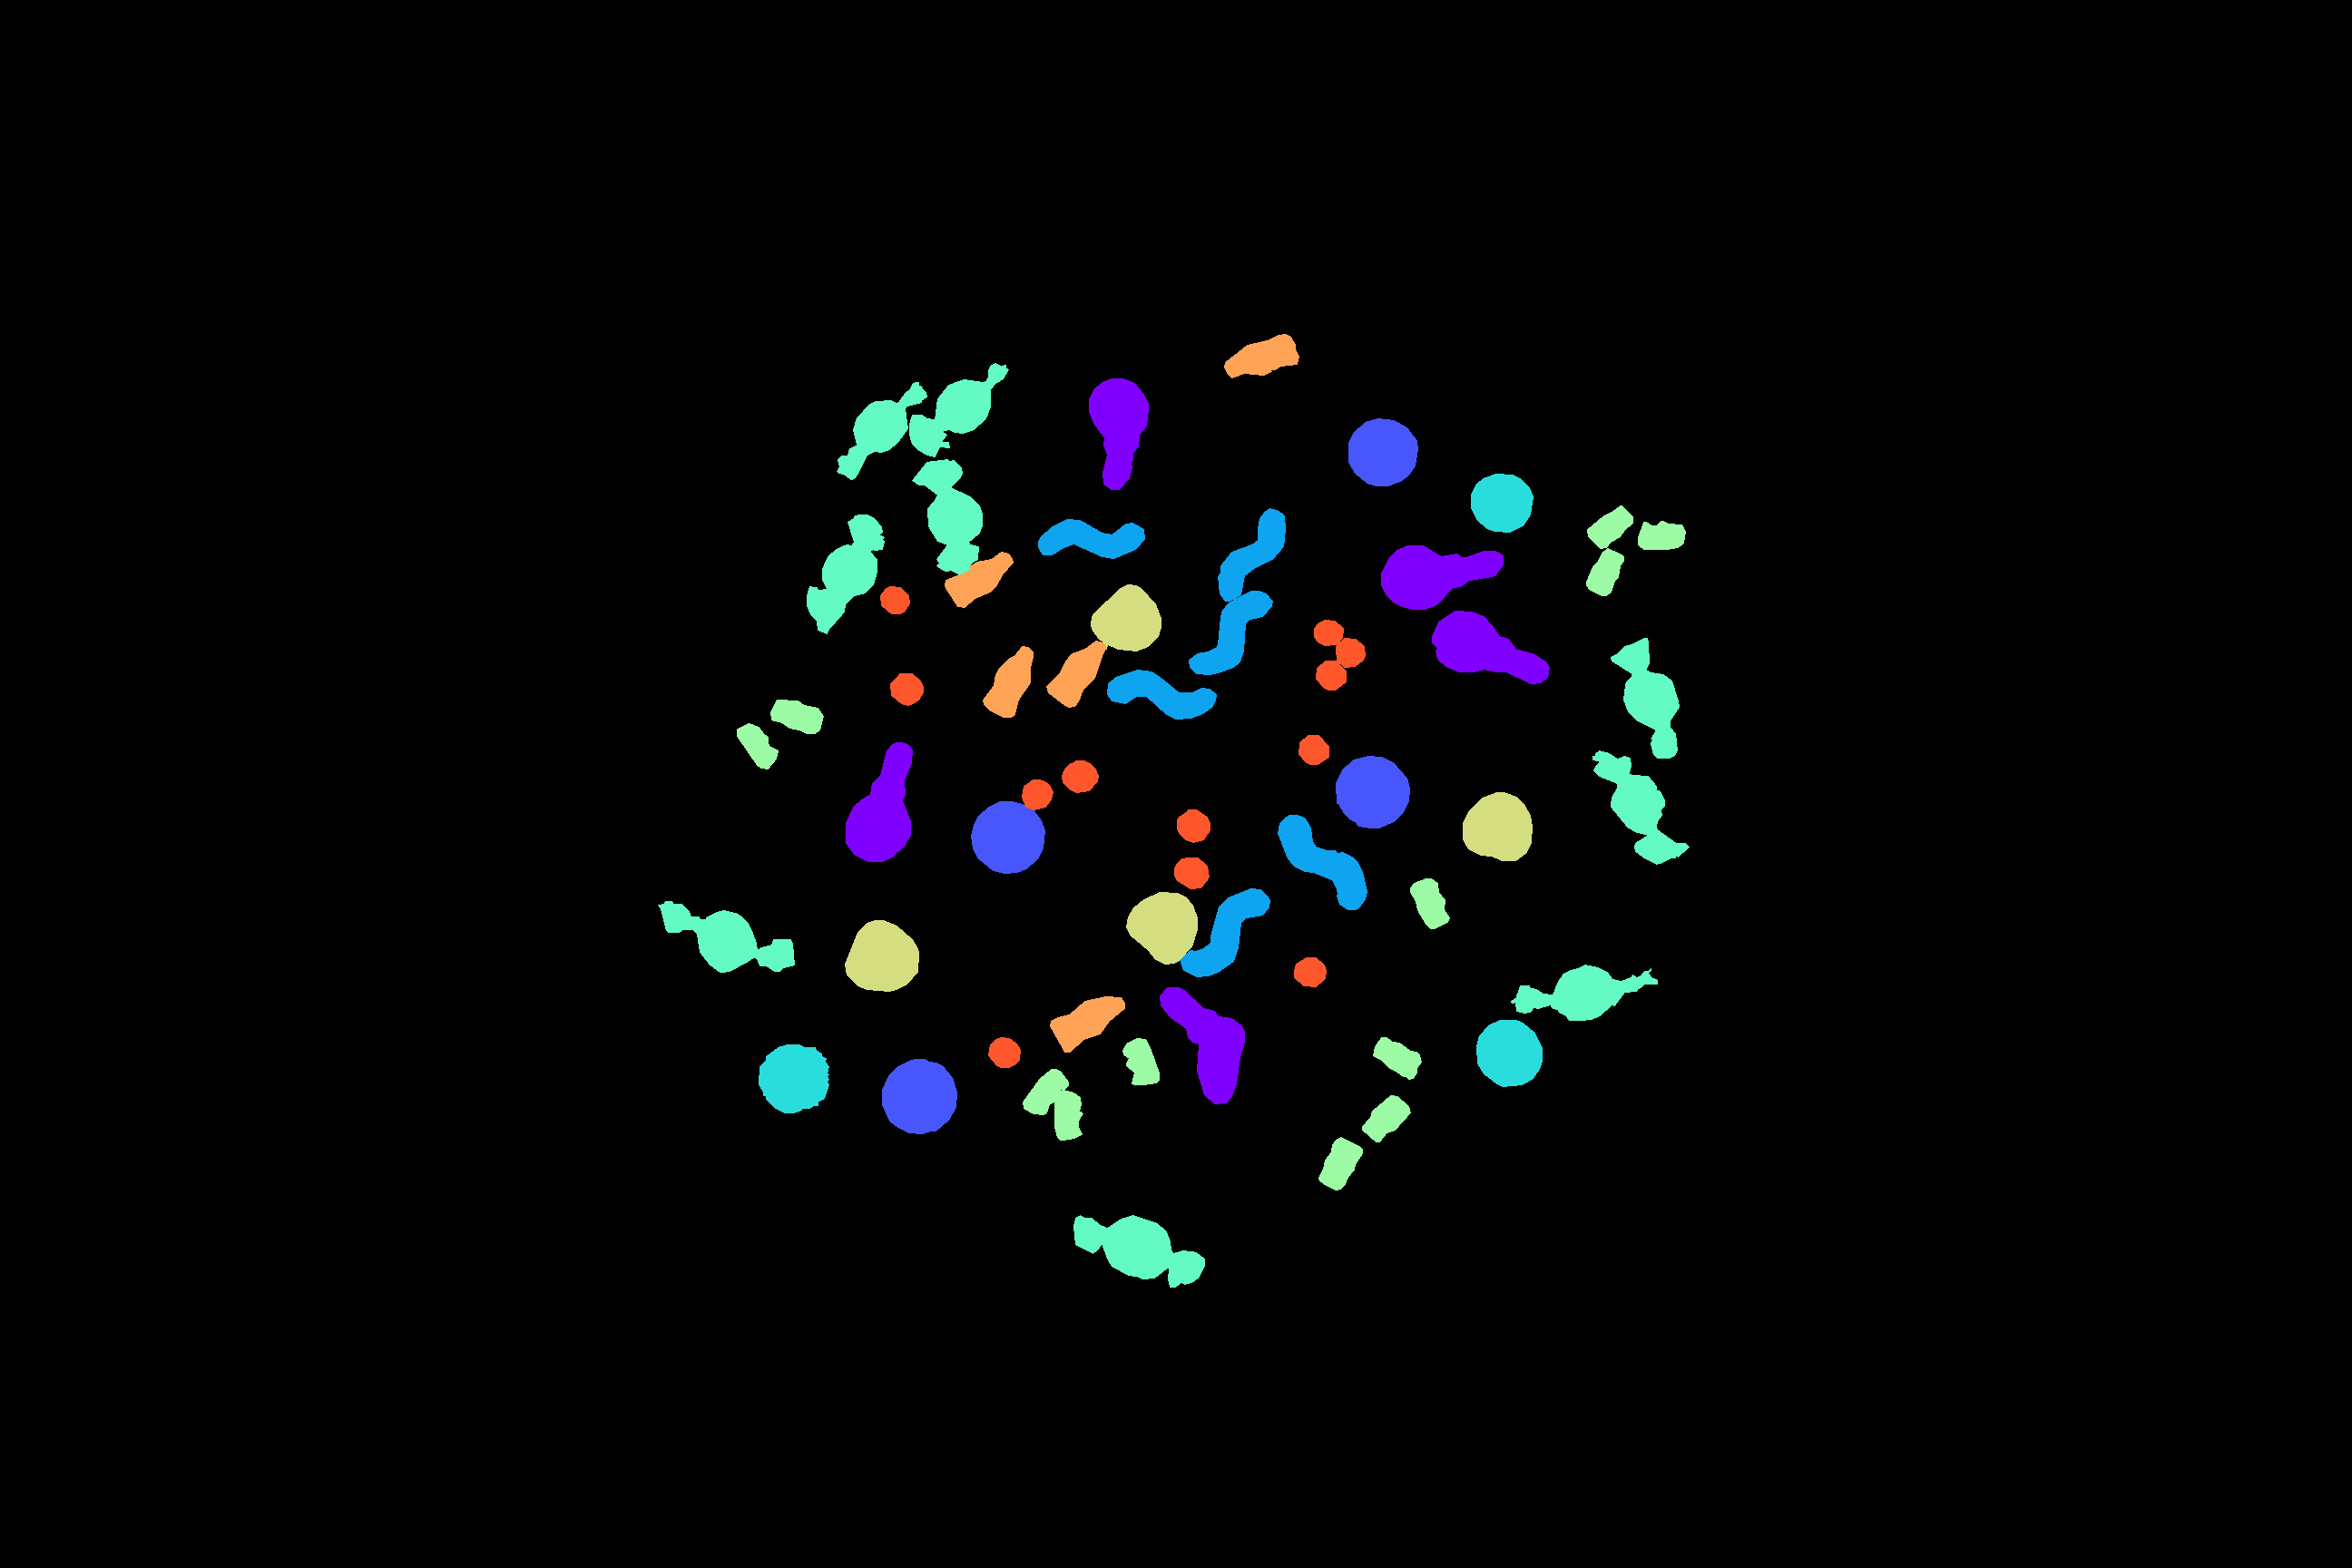apricot_jellies: (1125, 892, 1197, 964), (845, 920, 919, 991), (1463, 793, 1531, 861), (1090, 584, 1160, 651)
bear: (1318, 1138, 1362, 1190), (1362, 1095, 1411, 1141), (1022, 1069, 1068, 1115), (1374, 1038, 1421, 1080), (1587, 506, 1633, 548), (1411, 878, 1449, 927), (737, 723, 777, 768), (1585, 548, 1624, 595), (770, 700, 822, 733), (1122, 1038, 1158, 1085), (1055, 1090, 1083, 1139), (1638, 522, 1685, 549)
coin_candy: (882, 1059, 957, 1134), (1335, 756, 1409, 828), (971, 802, 1045, 873), (1349, 418, 1417, 485)
cola bottle candies: (1050, 996, 1123, 1052), (1046, 640, 1106, 707), (945, 551, 1013, 607), (984, 646, 1032, 718), (1223, 334, 1298, 378)
dummies: (1160, 987, 1244, 1104), (1432, 611, 1549, 682), (845, 742, 912, 861), (1381, 546, 1503, 609), (1089, 378, 1148, 488)
skittles: (1174, 857, 1209, 889), (1062, 761, 1097, 793), (891, 674, 922, 705), (1178, 810, 1209, 842), (1293, 957, 1326, 987), (989, 1038, 1020, 1068), (1022, 779, 1052, 810), (1316, 660, 1346, 689), (1298, 735, 1328, 765), (880, 586, 910, 614), (1335, 639, 1365, 667), (1314, 620, 1342, 646)
sourworms: (1277, 816, 1367, 910), (1179, 889, 1269, 976), (1188, 591, 1272, 674), (1218, 508, 1285, 600), (1108, 670, 1216, 719), (1038, 520, 1144, 558)
tofifee: (758, 1045, 828, 1113), (1477, 1020, 1542, 1087), (1472, 474, 1533, 532)
vollmilch_brocken: (1592, 751, 1689, 865), (658, 901, 794, 971), (1073, 1215, 1204, 1286), (910, 362, 1008, 457), (807, 514, 884, 633), (837, 382, 926, 480), (1510, 964, 1657, 1020), (1610, 639, 1678, 758), (912, 458, 982, 574)
